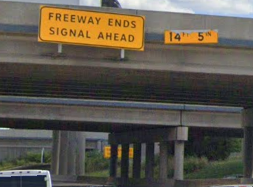1: (167, 30, 173, 42)
4: (172, 31, 182, 43)
5: (196, 30, 205, 42)
overheadsign: (163, 28, 218, 45)
